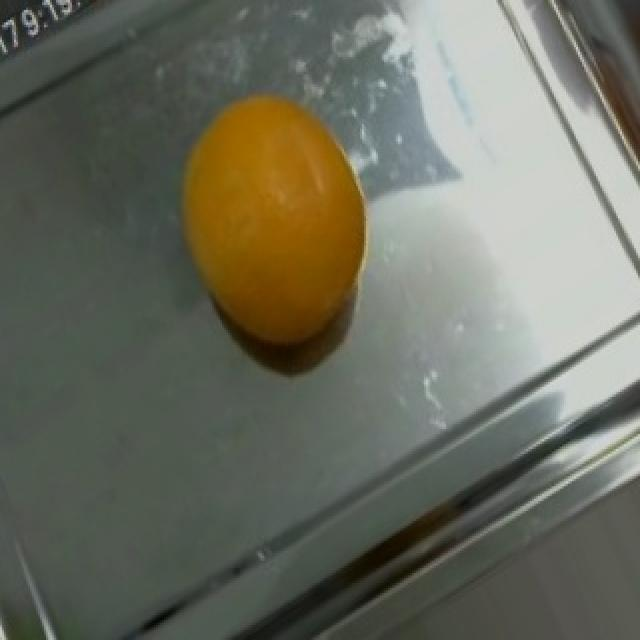Fruit: (160, 80, 396, 370)
